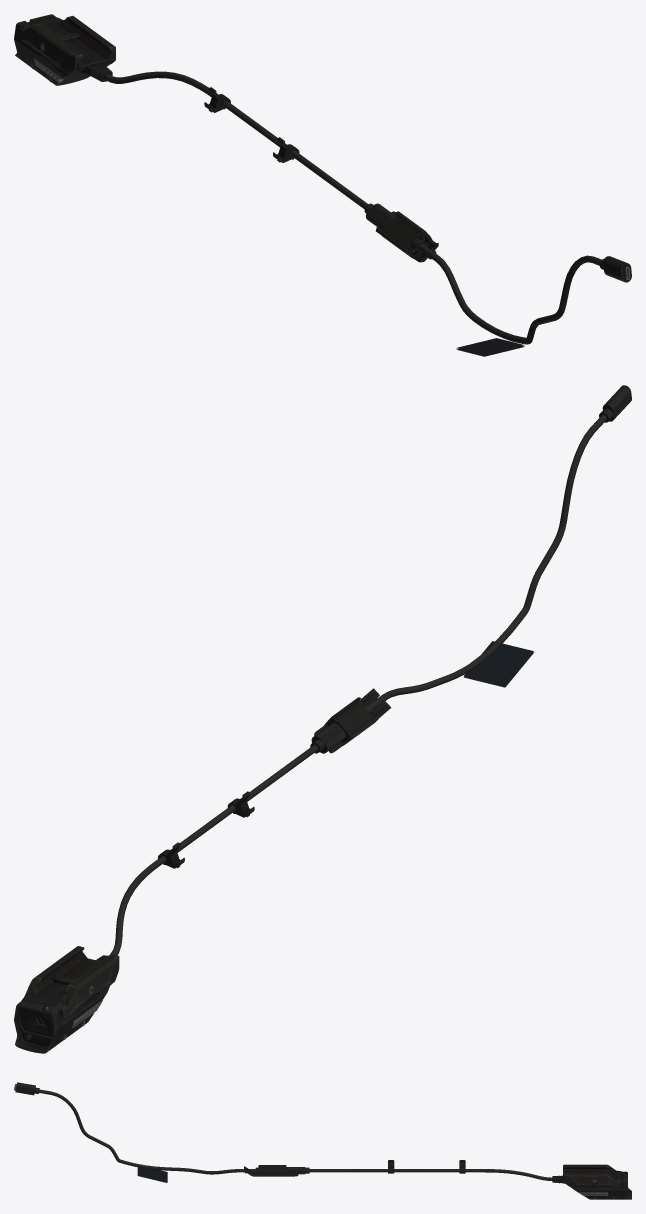
3 views of the same model, one above another, from view 1: azimuth 30°, elevation 25°; view 2: azimuth 150°, elevation 25°; view 3: azimuth 270°, elevation 25° (orthographic). The views are drawn at different scales.
Visible parts, largest first — view 1: TW_606f2696f2cb2e02a42aceb1_PZ_Import; view 2: TW_606f2696f2cb2e02a42aceb1_PZ_Import; view 3: TW_606f2696f2cb2e02a42aceb1_PZ_Import.
Part boxes in pixels (bbox=[...]): TW_606f2696f2cb2e02a42aceb1_PZ_Import: bbox=[14, 14, 631, 356]; TW_606f2696f2cb2e02a42aceb1_PZ_Import: bbox=[14, 385, 631, 1053]; TW_606f2696f2cb2e02a42aceb1_PZ_Import: bbox=[14, 1082, 631, 1199].
Size of the model in its own units: 0.0265 by 0.4072 by 0.0841.
Materials: 1 (1 with a texture image).
